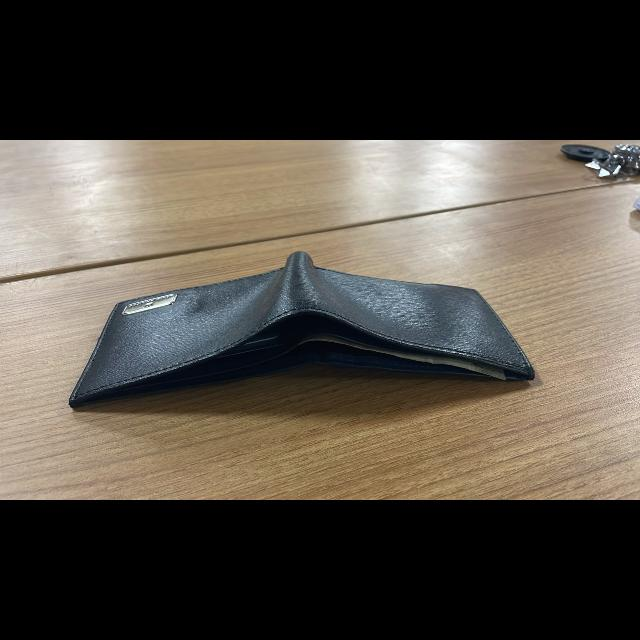wallet: (61, 246, 568, 432)
